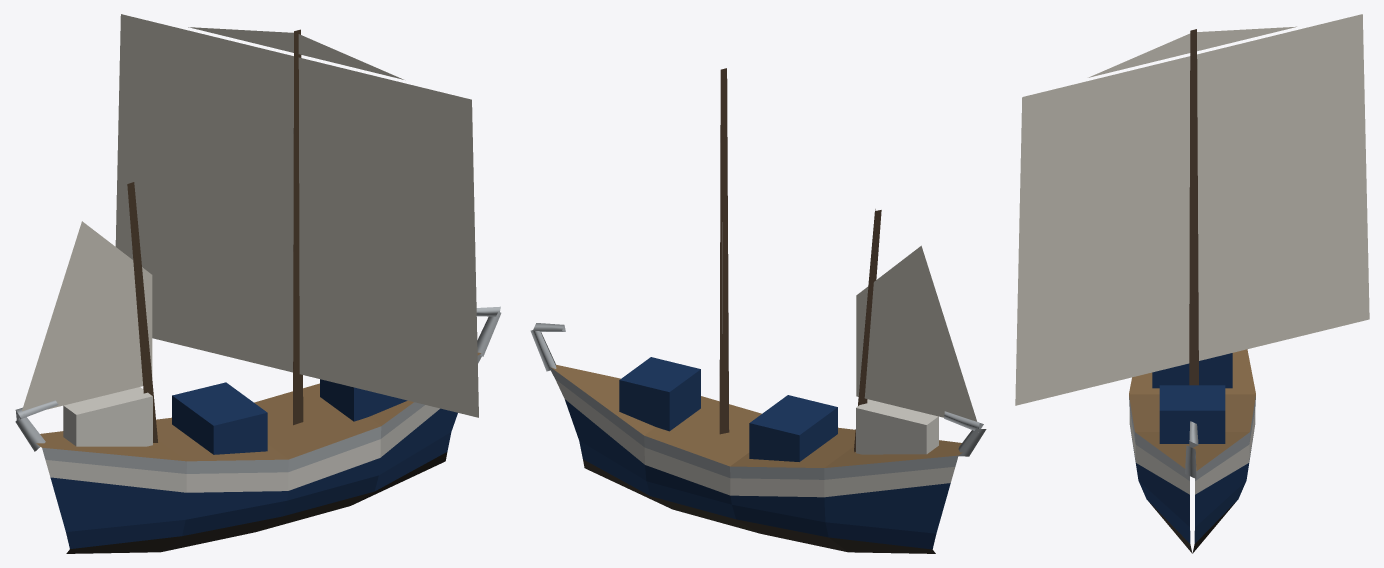
File: titan_pyusd_lod.glb
3 views of the same model, side by side, from view 1: azimuth 30°, elevation 25°; view 2: azimuth 150°, elevation 25°; view 3: azimuth 270°, elevation 25° (orthographic). The views are drawn at different scales.
Visible parts, largest first — view 1: lod; view 2: lod; view 3: lod.
Part boxes in pixels (x1,y1,x2,y2): lod: (15, 14, 501, 553); lod: (530, 68, 986, 553); lod: (1015, 14, 1369, 553).
Size of the model in its own units: 22.81 by 21.96 by 14.75.
